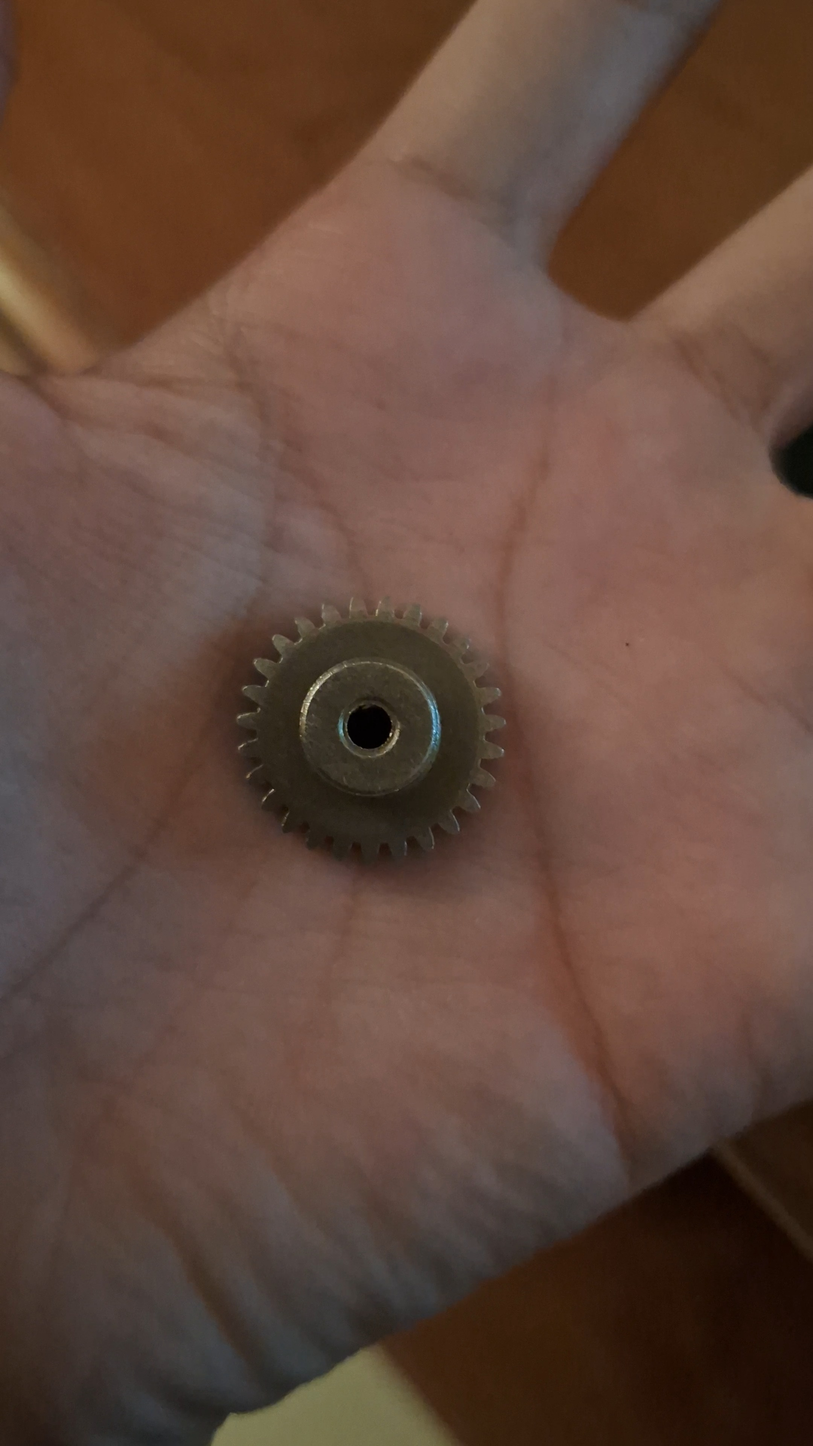spur gear: (238, 599, 504, 860)
